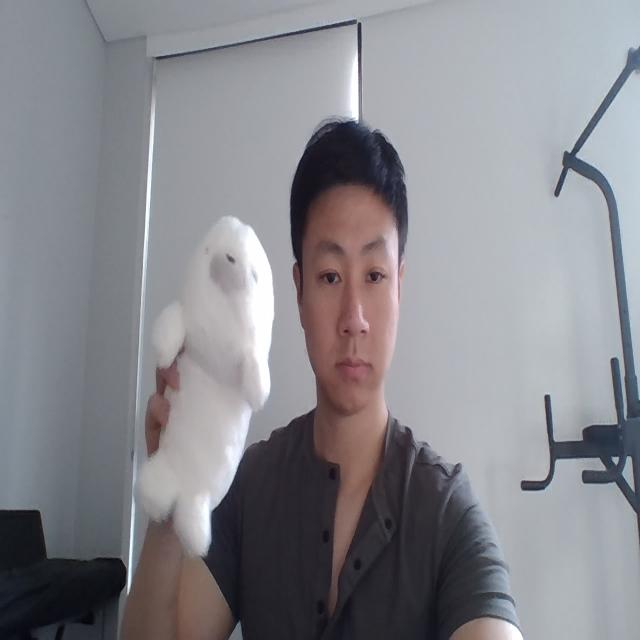seal_bb: (136, 217, 275, 560)
